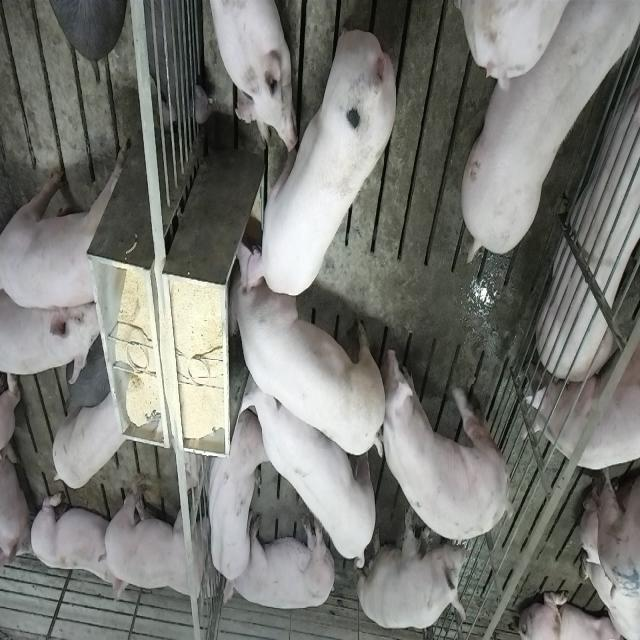Feeding: (242, 26, 398, 302), (220, 258, 382, 464)
Lateral_lying: (539, 46, 640, 386), (222, 512, 336, 612)
Sitting: (356, 510, 468, 632)
Standing: (456, 2, 635, 266), (241, 354, 380, 572), (382, 336, 520, 546), (2, 138, 131, 309), (100, 465, 220, 607), (523, 339, 640, 472), (0, 253, 105, 387), (51, 390, 129, 489)
Sternal_lying: (207, 0, 295, 151), (203, 410, 265, 586), (28, 488, 118, 605)
